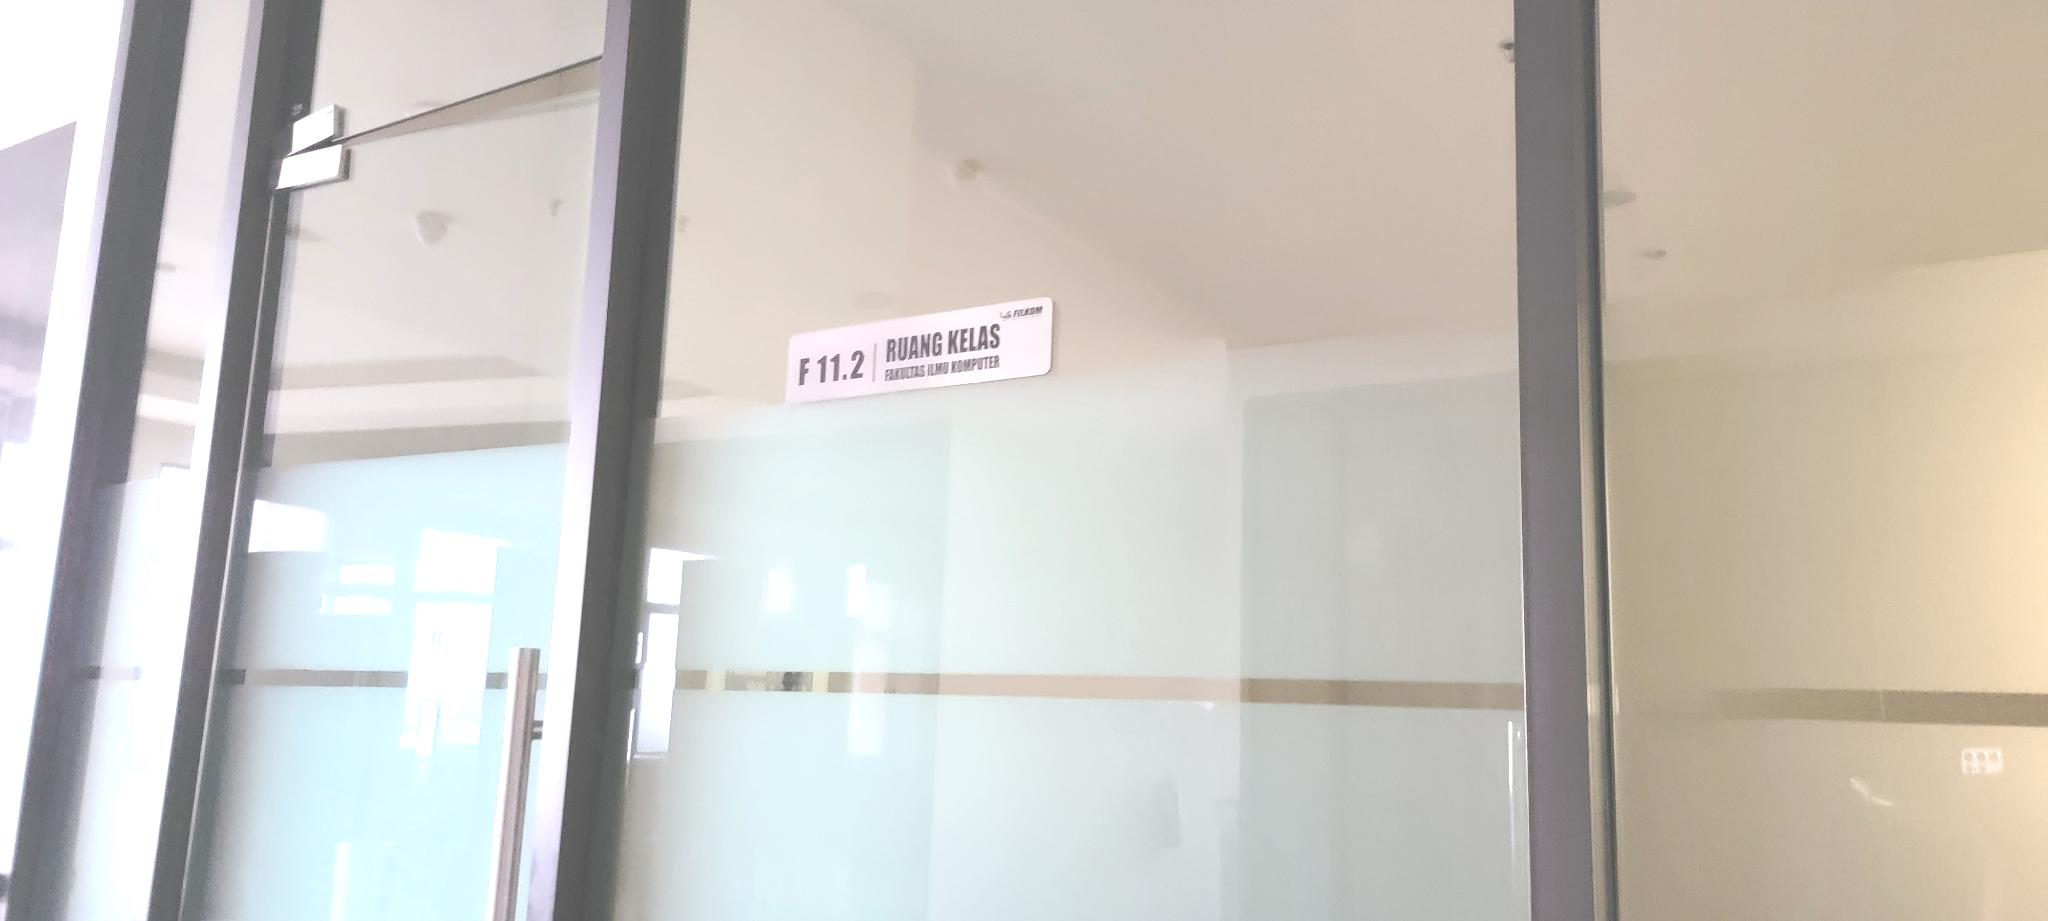plate: (782, 293, 1058, 413)
